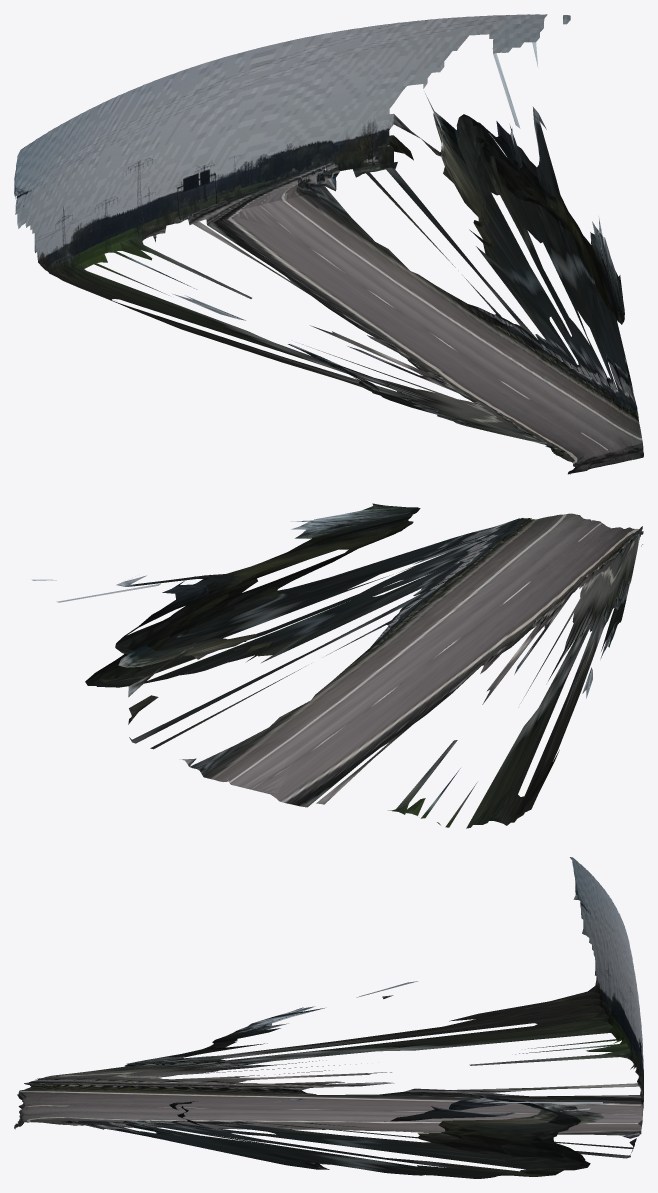
The picture shows the model from 3 angles, top to bottom: view 1: azimuth 30°, elevation 25°; view 2: azimuth 150°, elevation 25°; view 3: azimuth 270°, elevation 25°; orthographic projection. The views are drawn at different scales.
Parts seen in each view (by area): view 1: defaultobject; view 2: defaultobject; view 3: defaultobject.
Part boxes in pixels (bbox=[...]): defaultobject: bbox=[14, 14, 643, 474]; defaultobject: bbox=[31, 503, 643, 828]; defaultobject: bbox=[14, 857, 643, 1178].
Bounding box in the file's own units: 40.27 × 11.88 × 44.42.
1 material, 1 textured.
